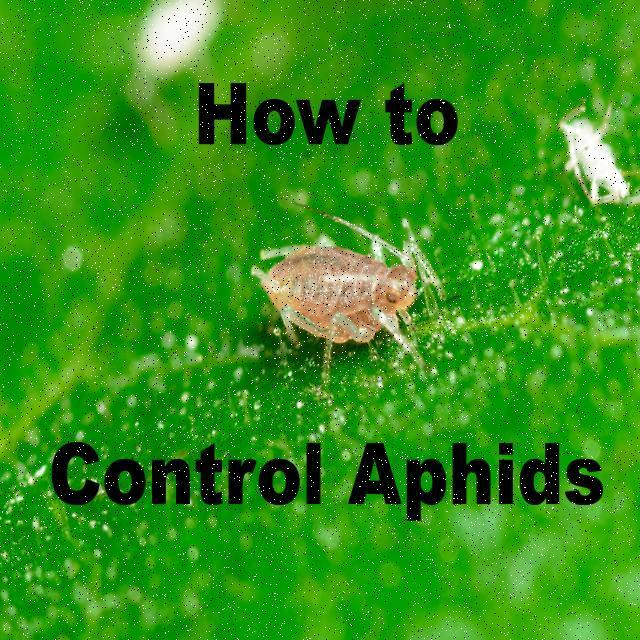Aphids: (205, 188, 475, 418)
